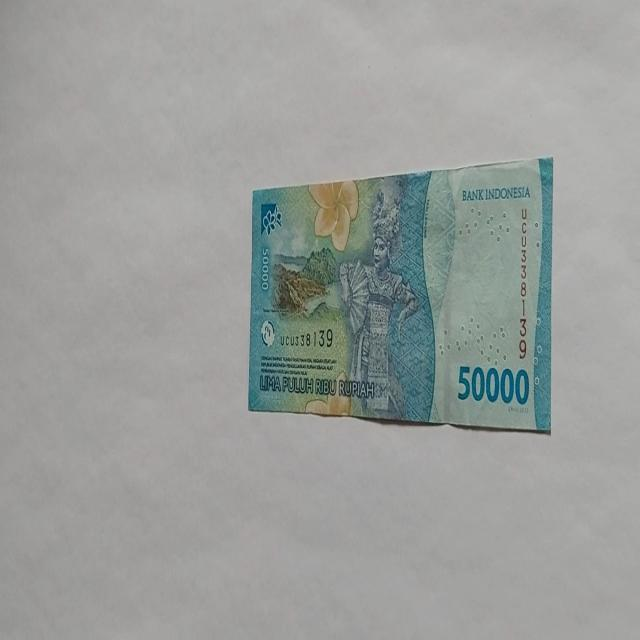lima puluh ribu rupiah: (247, 154, 554, 433)
